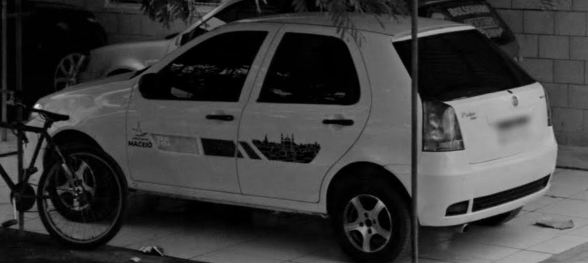car: (26, 13, 560, 252)
